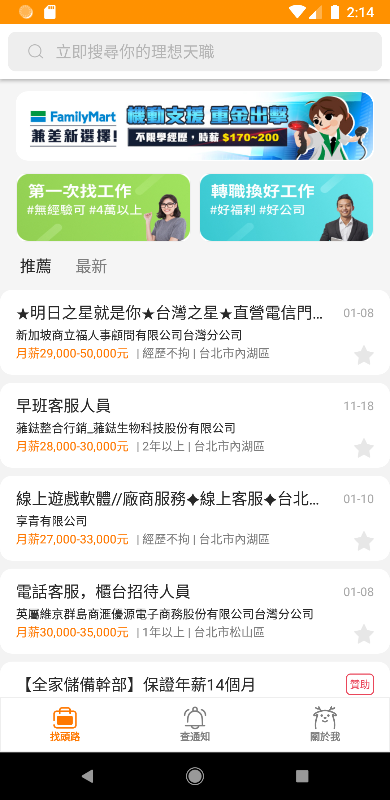ad: (10, 87, 379, 167), (12, 169, 196, 251), (198, 173, 380, 251)
button: (5, 26, 384, 77), (166, 704, 220, 744), (42, 705, 94, 746), (299, 705, 341, 745), (341, 669, 379, 695), (346, 527, 378, 557), (344, 622, 379, 649), (348, 339, 379, 368), (351, 430, 380, 460)
